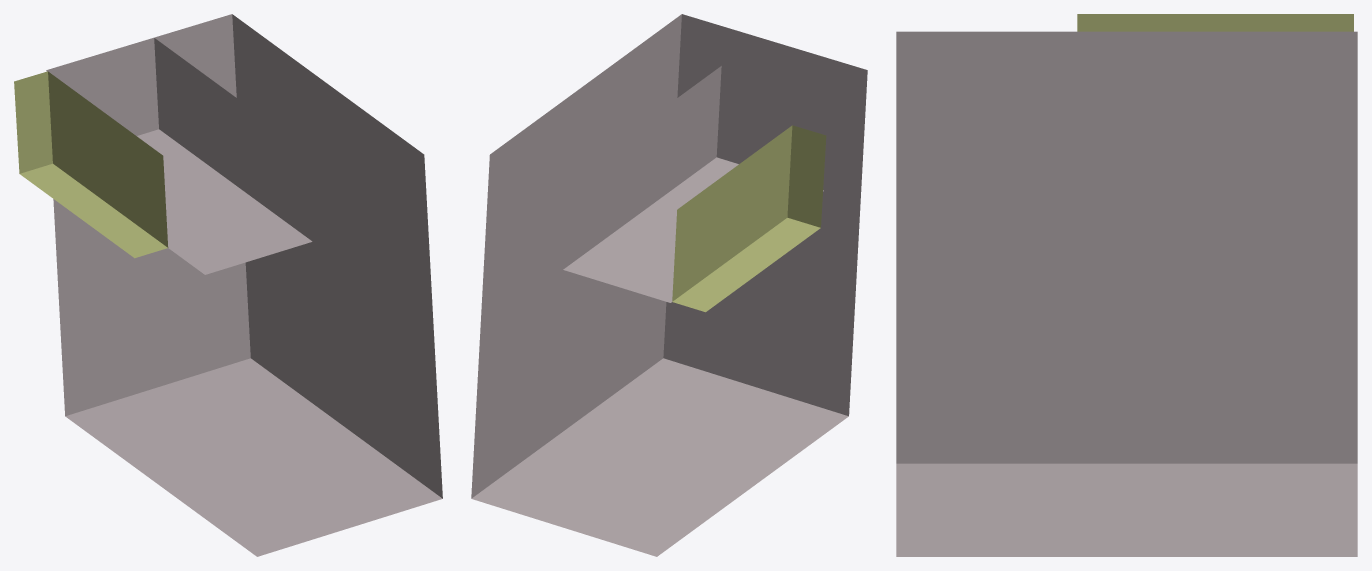
3 renders of one model, left to right at view 1: azimuth 30°, elevation 25°; view 2: azimuth 150°, elevation 25°; view 3: azimuth 270°, elevation 25°, orthographic. The views are drawn at different scales.
Visible parts, largest first — view 1: 0_2_3_3_3_1_3_1_0_3; view 2: 0_2_3_3_3_1_3_1_0_3; view 3: 0_2_3_3_3_1_3_1_0_3.
Boxes of the visible parts, x1=… form: 0_2_3_3_3_1_3_1_0_3: x1=14, y1=14, x2=442, y2=556; 0_2_3_3_3_1_3_1_0_3: x1=471, y1=14, x2=867, y2=556; 0_2_3_3_3_1_3_1_0_3: x1=896, y1=14, x2=1357, y2=556.
Bounding box in the file's own units: 10.75 × 15.58 × 15.
